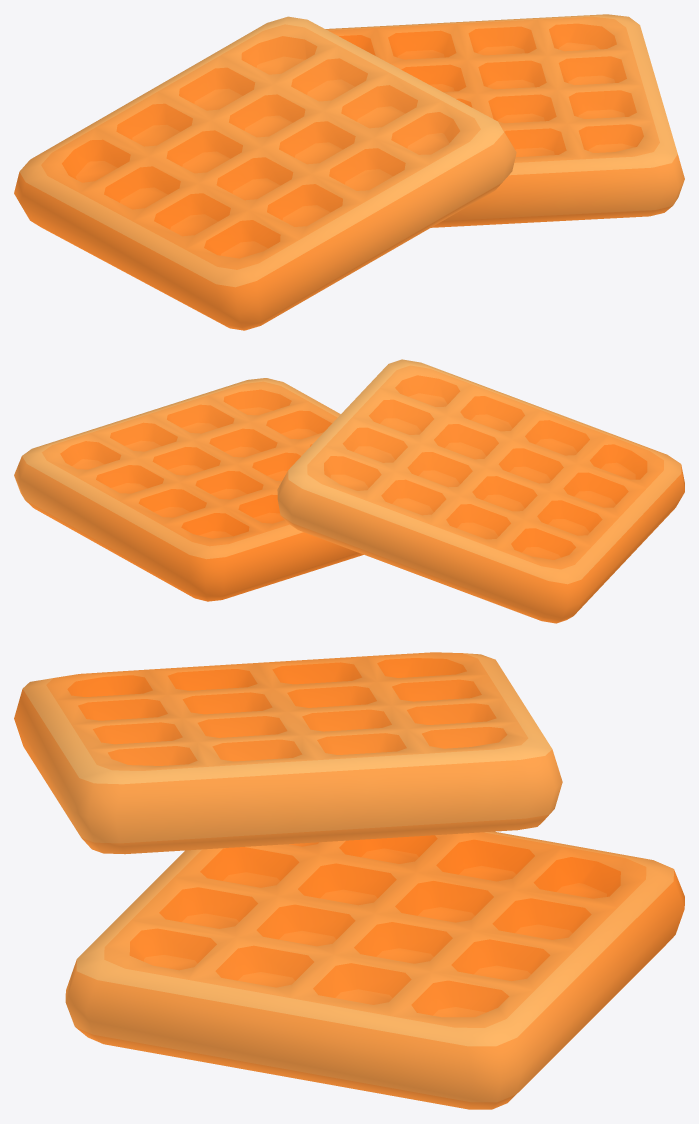
The model's file is waffle.glb.
3 views of the same model, one above another, from view 1: azimuth 30°, elevation 25°; view 2: azimuth 150°, elevation 25°; view 3: azimuth 270°, elevation 25° (orthographic). The views are drawn at different scales.
Parts seen in each view (by area): view 1: F_Europe_Bakery_Waffles_LOD0_streetFood_0; view 2: F_Europe_Bakery_Waffles_LOD0_streetFood_0; view 3: F_Europe_Bakery_Waffles_LOD0_streetFood_0.
Part boxes in pixels (left/top/right/bottom): F_Europe_Bakery_Waffles_LOD0_streetFood_0: left=14, top=14, right=684, bottom=330; F_Europe_Bakery_Waffles_LOD0_streetFood_0: left=14, top=359, right=684, bottom=623; F_Europe_Bakery_Waffles_LOD0_streetFood_0: left=14, top=652, right=684, bottom=1109.
Size of the model in its own units: 0.3269 by 0.0601 by 0.2309.
1 material, 1 textured.
